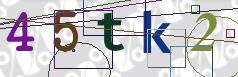2: (189, 11, 219, 55)
4: (3, 10, 40, 57)
5: (50, 6, 82, 55)
k: (139, 8, 175, 56)
t: (95, 9, 128, 56)
